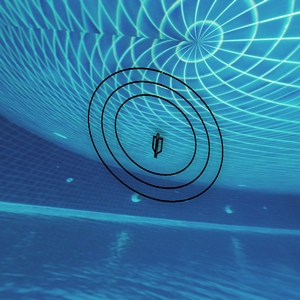circle: (81, 58, 221, 220)
submarine: (151, 134, 164, 160)
